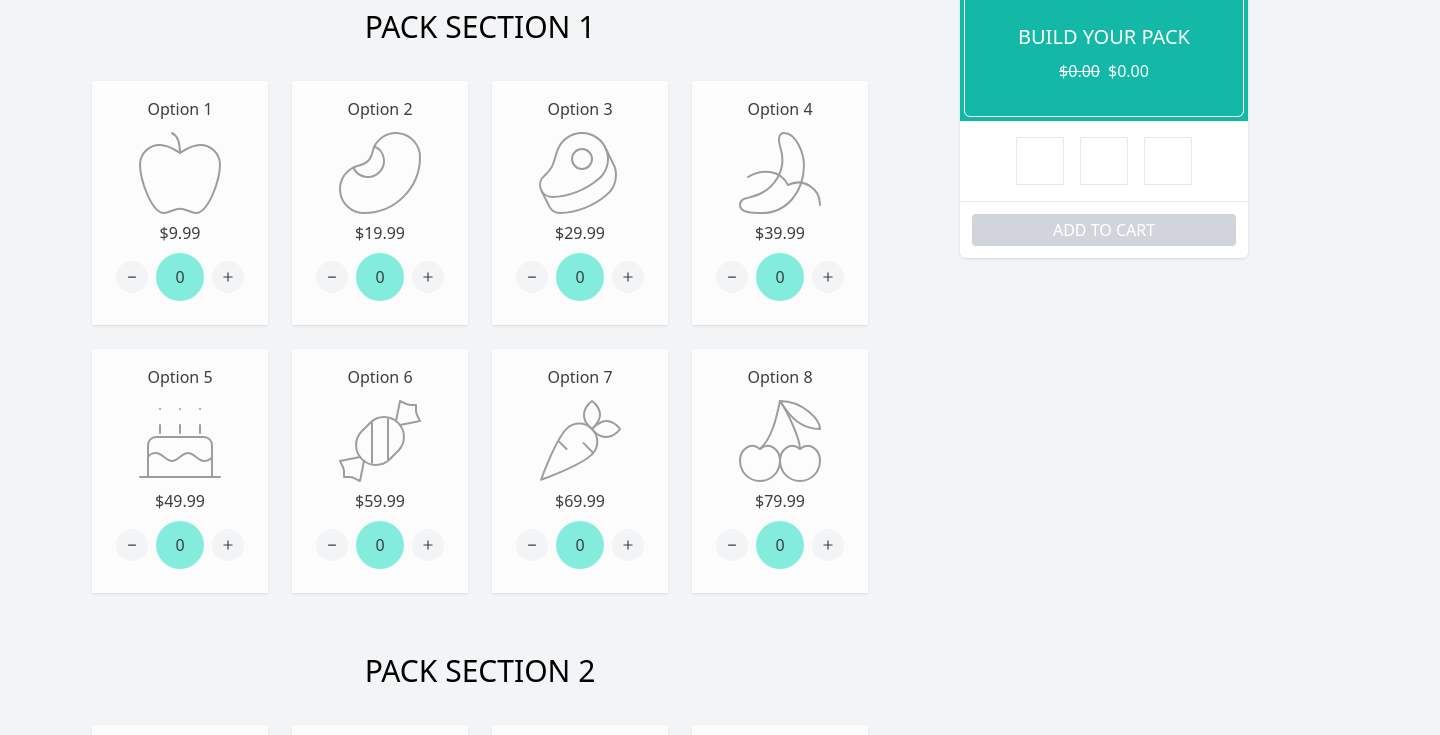
Test: Bundle Builder Page › Should be correct total
Click the 3rd button with class "add-product" at (628, 277), box [612, 261, 644, 293]
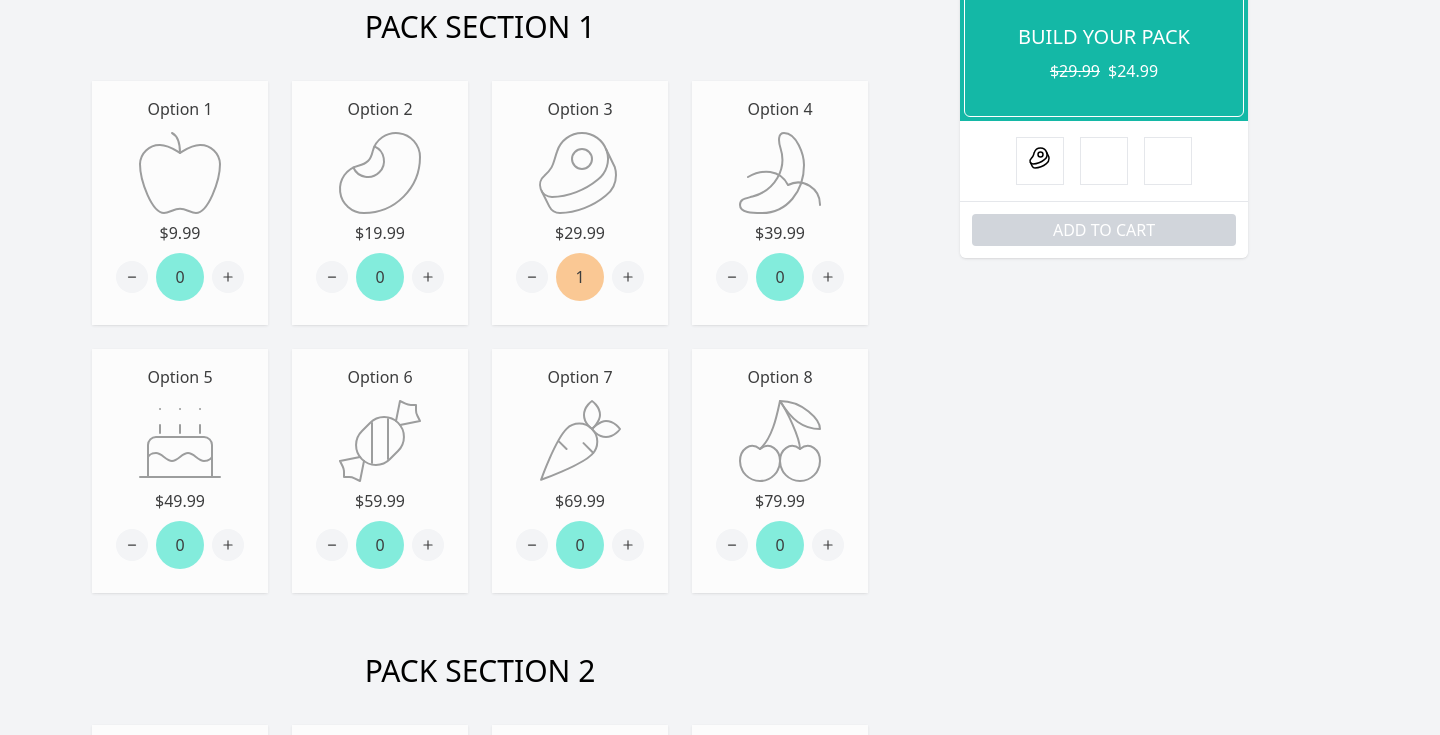
Scroll
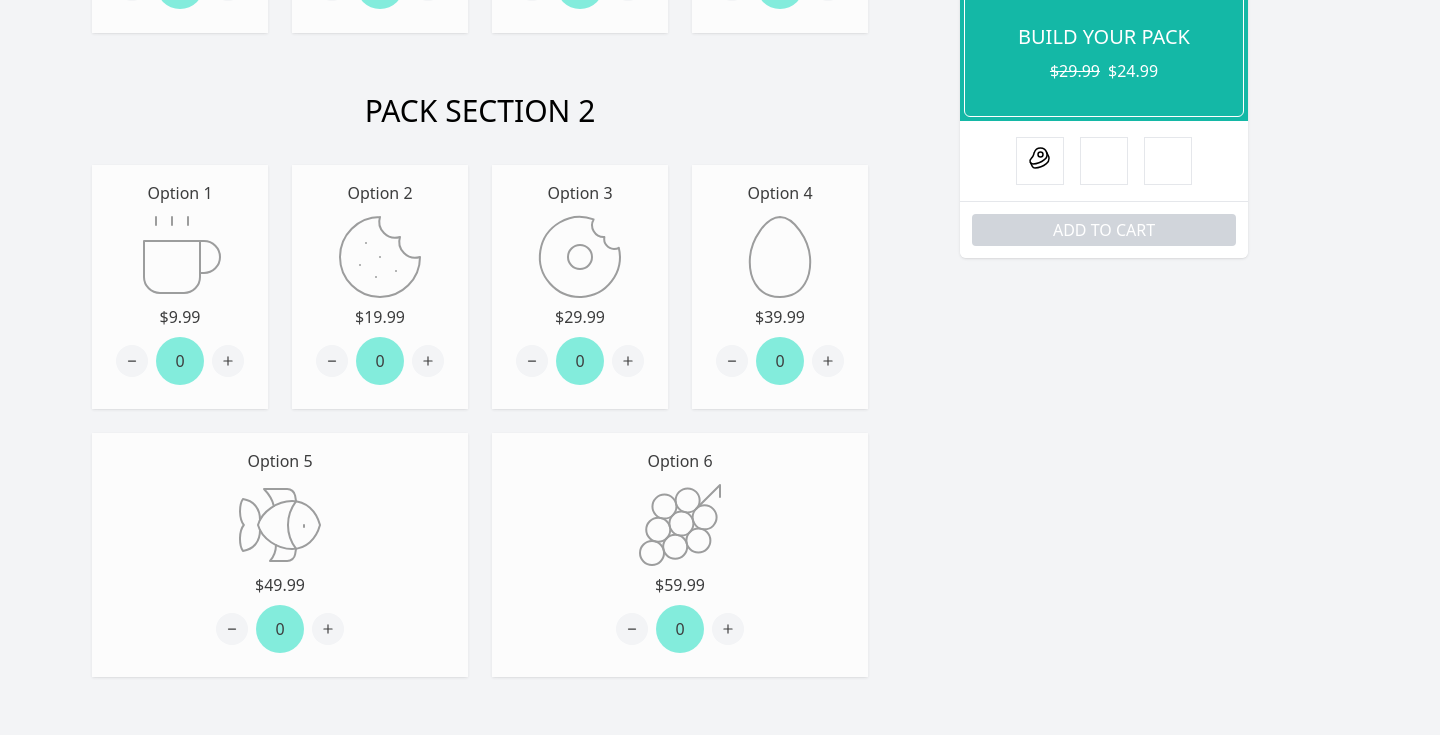
Click the 7th button with class "add-product" at (628, 361), box [612, 345, 644, 377]
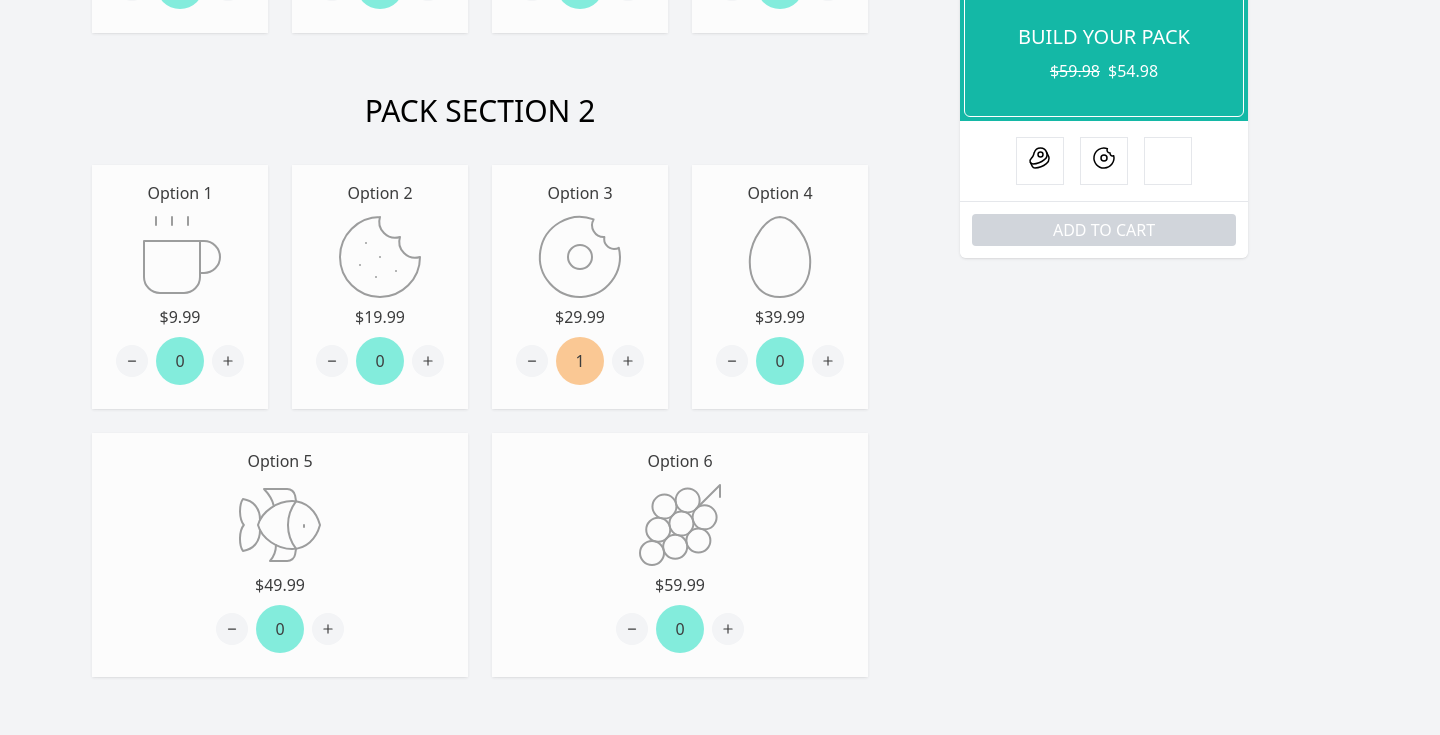
Scroll
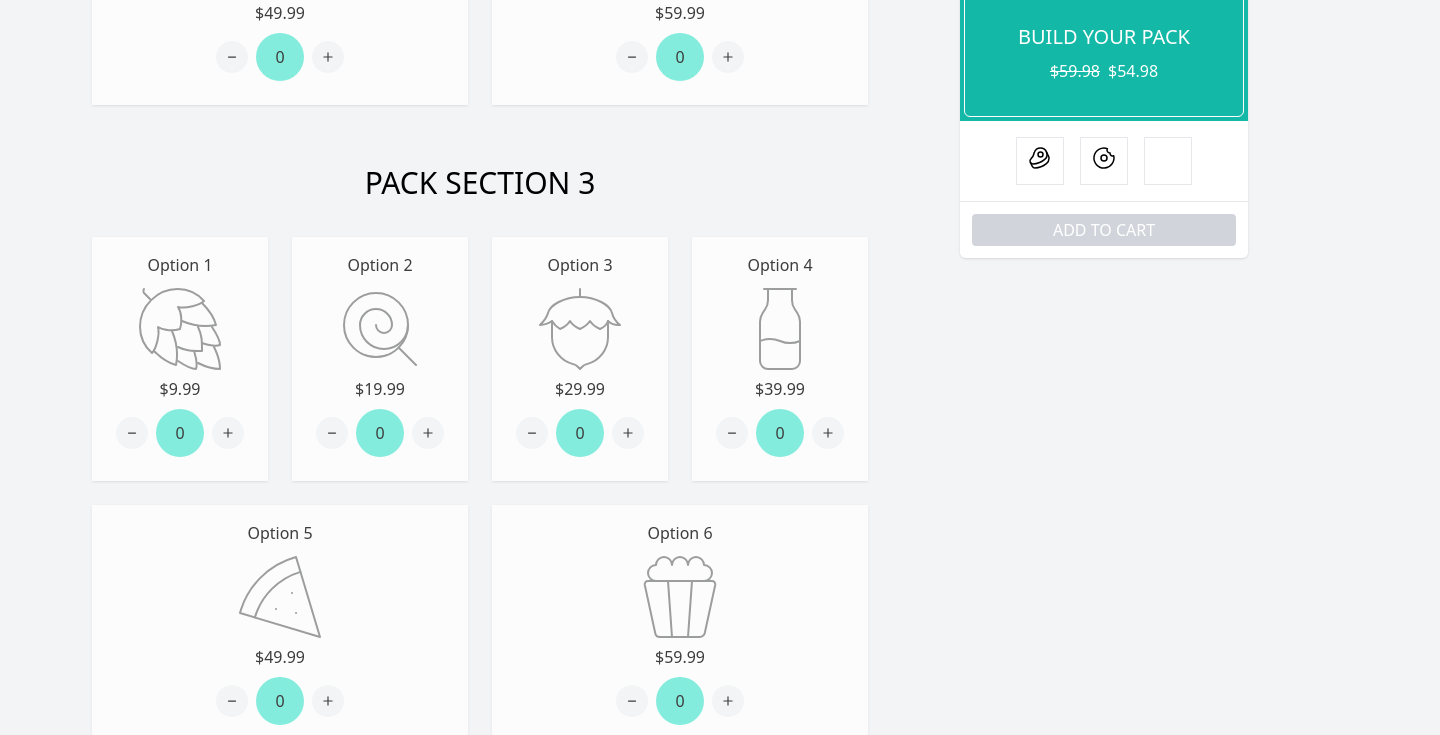
Click the 6th button with class "add-product" at (828, 433), box [812, 417, 844, 449]
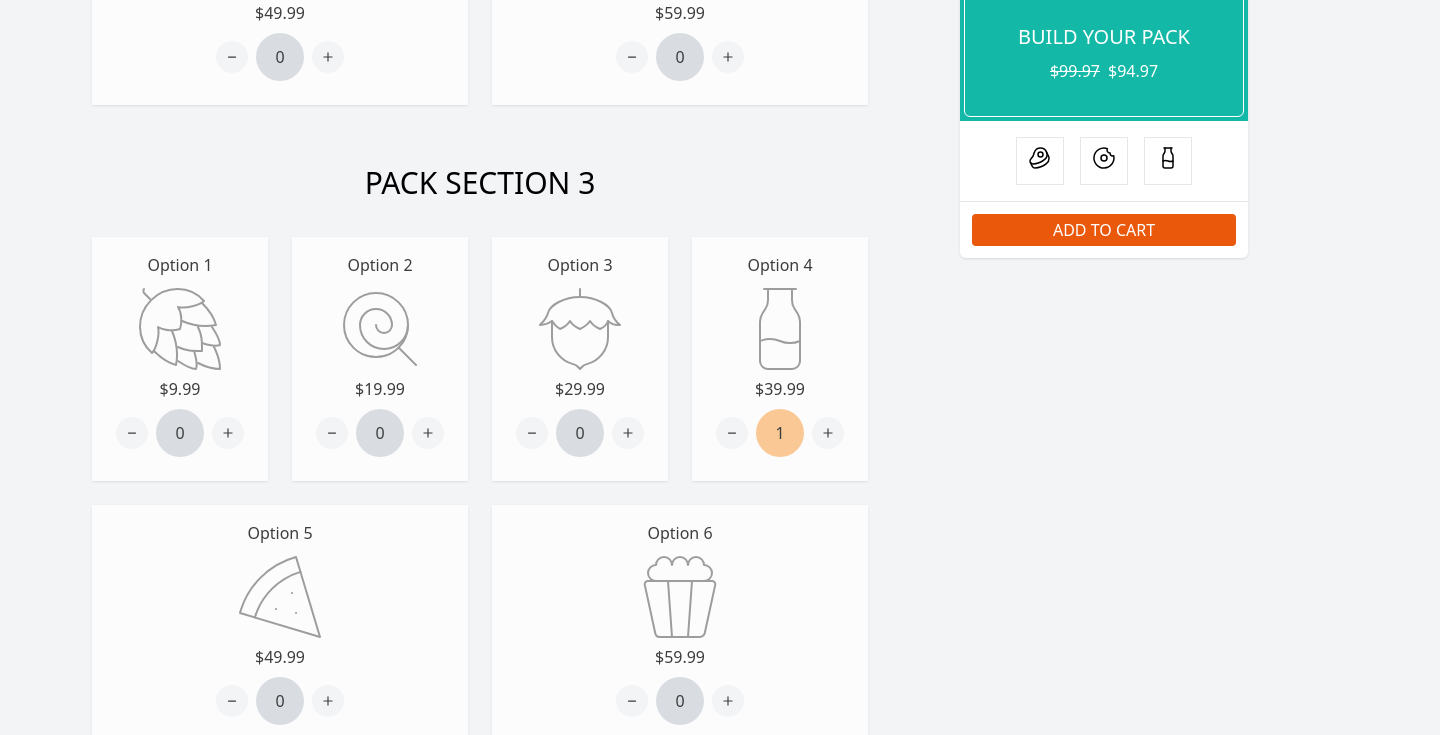
Expected: the text with class "bundle-total-price" reads "$99.97", [1050, 60, 1100, 82]
